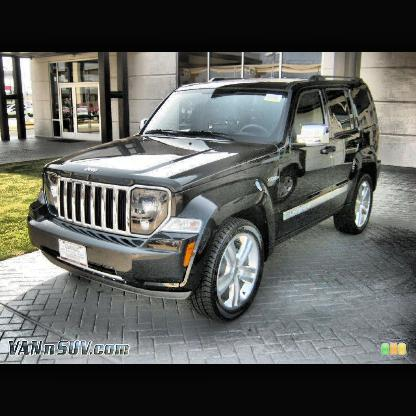Jeep Liberty SUV 2012: (27, 77, 386, 327)
